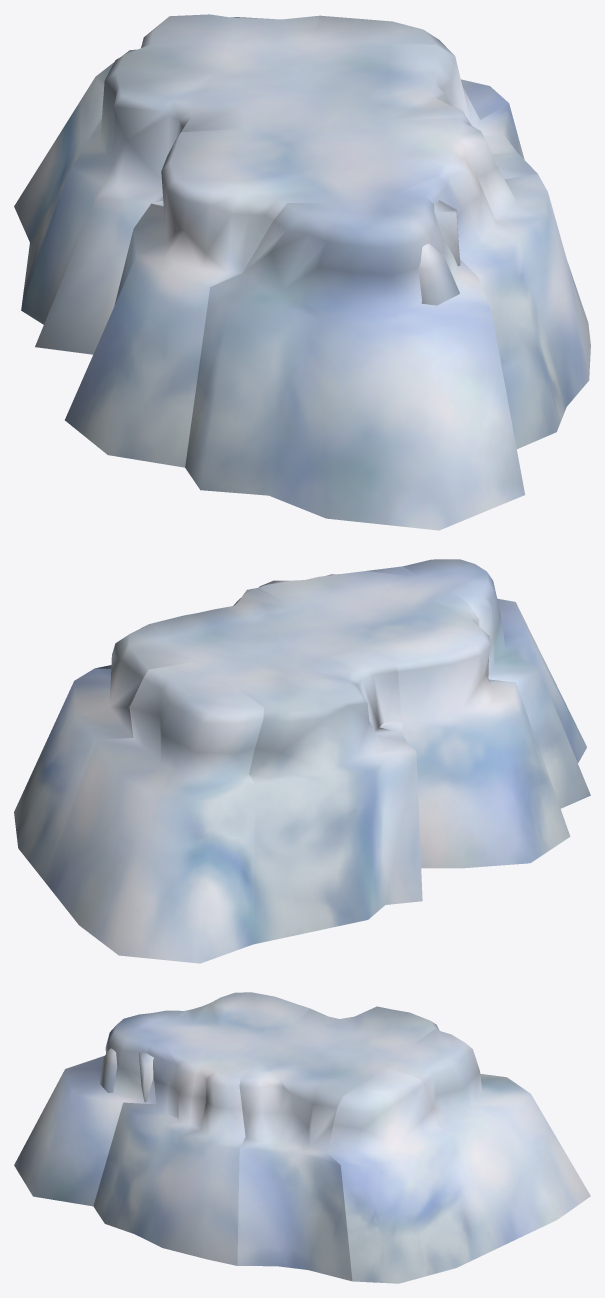
The model's file is jixueshanludimian.FBX.
3 renders of one model, top to bottom at view 1: azimuth 30°, elevation 25°; view 2: azimuth 150°, elevation 25°; view 3: azimuth 270°, elevation 25°, orthographic. The views are drawn at different scales.
Parts seen in each view (by area): view 1: jixueshanludimian01, jixueshanludimian02, jixueshanludimian04, jixueshanludimian03, jixueshanludimian05, jixueshanludimian06, jixueshanludimian07; view 2: jixueshanludimian06, jixueshanludimian04, jixueshanludimian02, jixueshanludimian07, jixueshanludimian01, jixueshanludimian05, jixueshanludimian03; view 3: jixueshanludimian03, jixueshanludimian07, jixueshanludimian05, jixueshanludimian06, jixueshanludimian01, jixueshanludimian04, jixueshanludimian02.
Boxes of the visible parts, x1,y1,x2,y2 form: jixueshanludimian01: (185, 196, 524, 530); jixueshanludimian02: (65, 125, 335, 467); jixueshanludimian04: (21, 43, 315, 354); jixueshanludimian03: (315, 117, 590, 448); jixueshanludimian05: (310, 43, 537, 179); jixueshanludimian06: (14, 14, 319, 241); jixueshanludimian07: (310, 15, 508, 119); jixueshanludimian06: (44, 661, 263, 963); jixueshanludimian04: (198, 627, 422, 944); jixueshanludimian02: (330, 590, 570, 868); jixueshanludimian07: (14, 624, 197, 881); jixueshanludimian01: (403, 559, 590, 808); jixueshanludimian05: (96, 587, 328, 668); jixueshanludimian03: (259, 566, 448, 626); jixueshanludimian03: (93, 1022, 276, 1265); jixueshanludimian07: (328, 1067, 499, 1283); jixueshanludimian05: (237, 1042, 384, 1281); jixueshanludimian06: (385, 1029, 590, 1246); jixueshanludimian01: (14, 1010, 183, 1206); jixueshanludimian04: (277, 1006, 439, 1066); jixueshanludimian02: (169, 992, 310, 1041).
Size of the model in its own units: 1689 by 683 by 2399.
